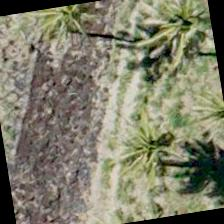Kelapa_Sawit: (84, 100, 187, 204), (118, 0, 220, 88), (28, 0, 126, 65)
